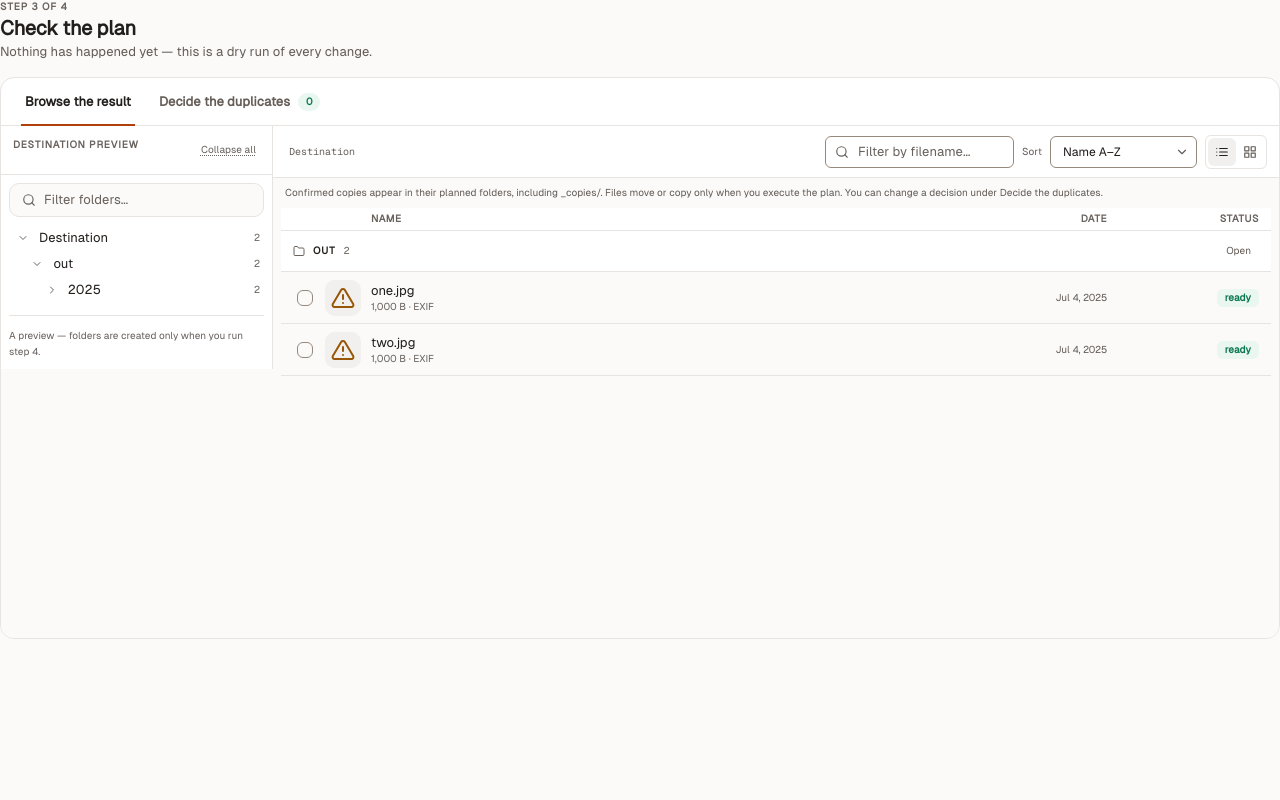
it: selecting a file and opening a file are different gestures › states the independent file-info and provenance loading states
Click the text "one.jpg".
click(393, 290)  # box [371,282,415,298]
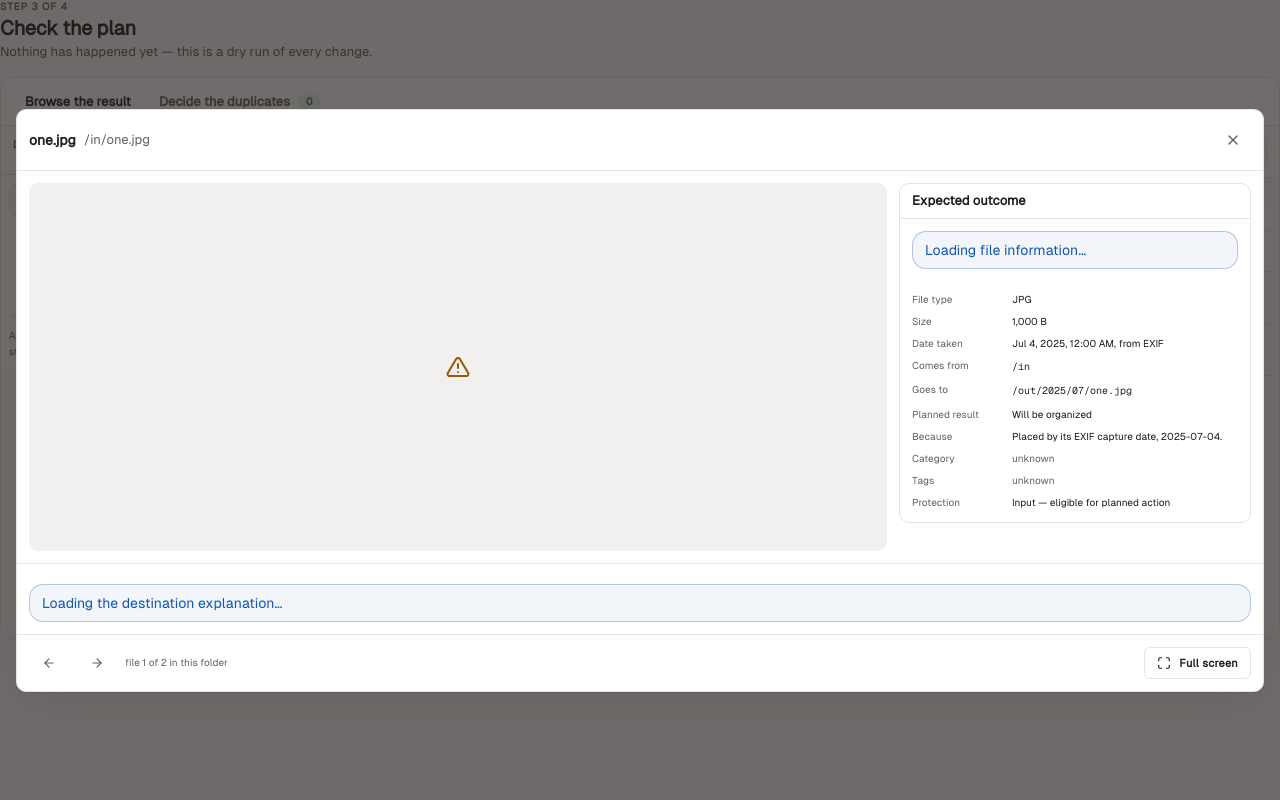
Check: the text "Loading file information…" is shown, box [925,242,1086,258]
Check: the text "Loading the destination explanation…" is shown, box [42,594,282,610]
